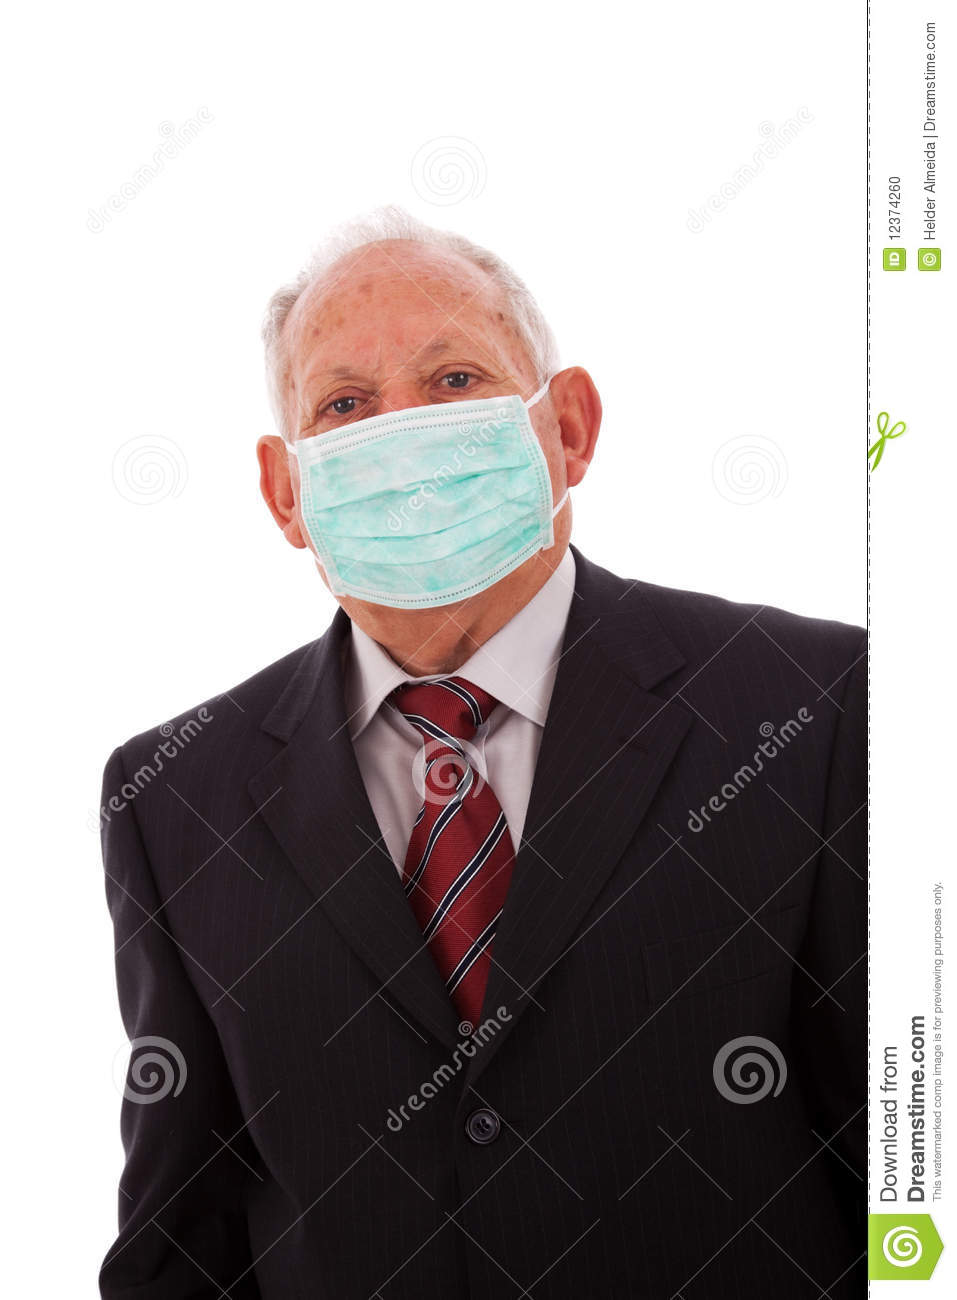mask: (291, 403, 556, 611)
